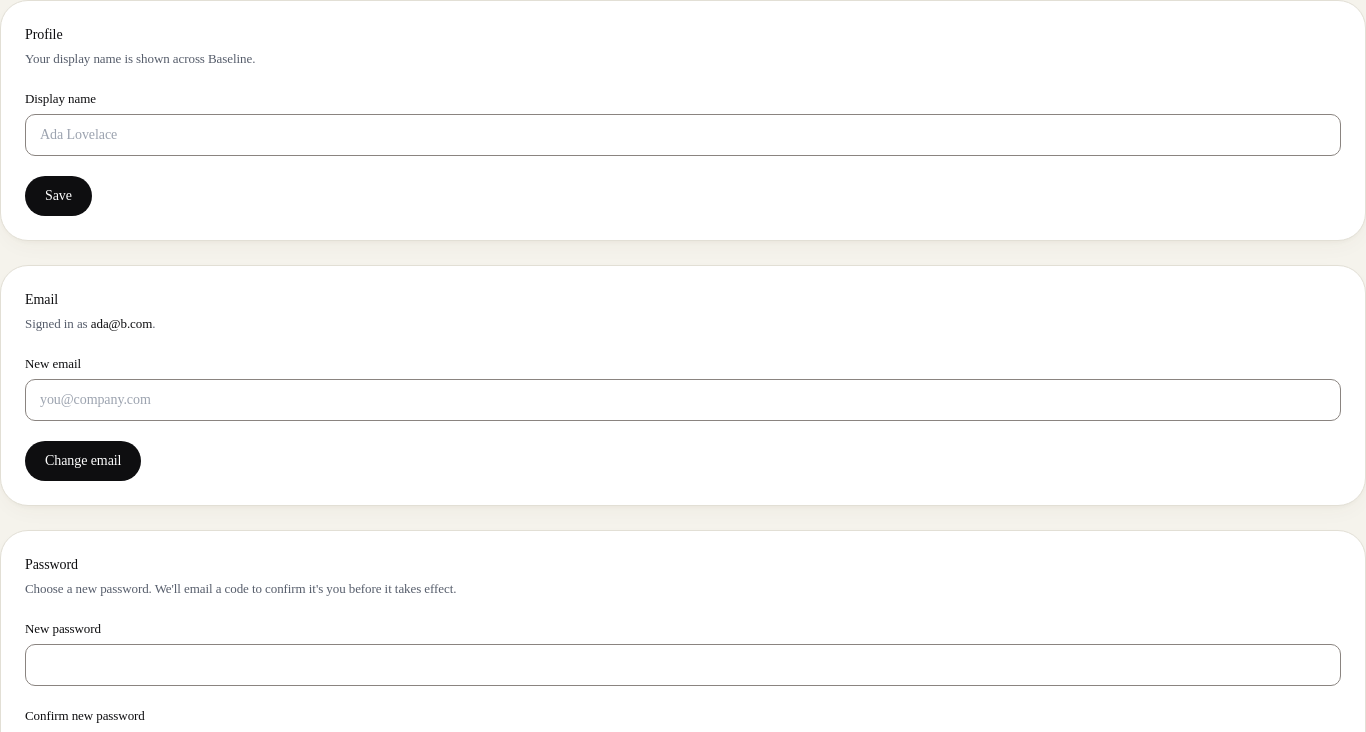
Test: AccountForms › submits the profile form and surfaces the saved confirmation
The image size is (1366, 732).
Type "Grace" into the field labelled "Display name" at [683, 135], box [25,114,1341,156]
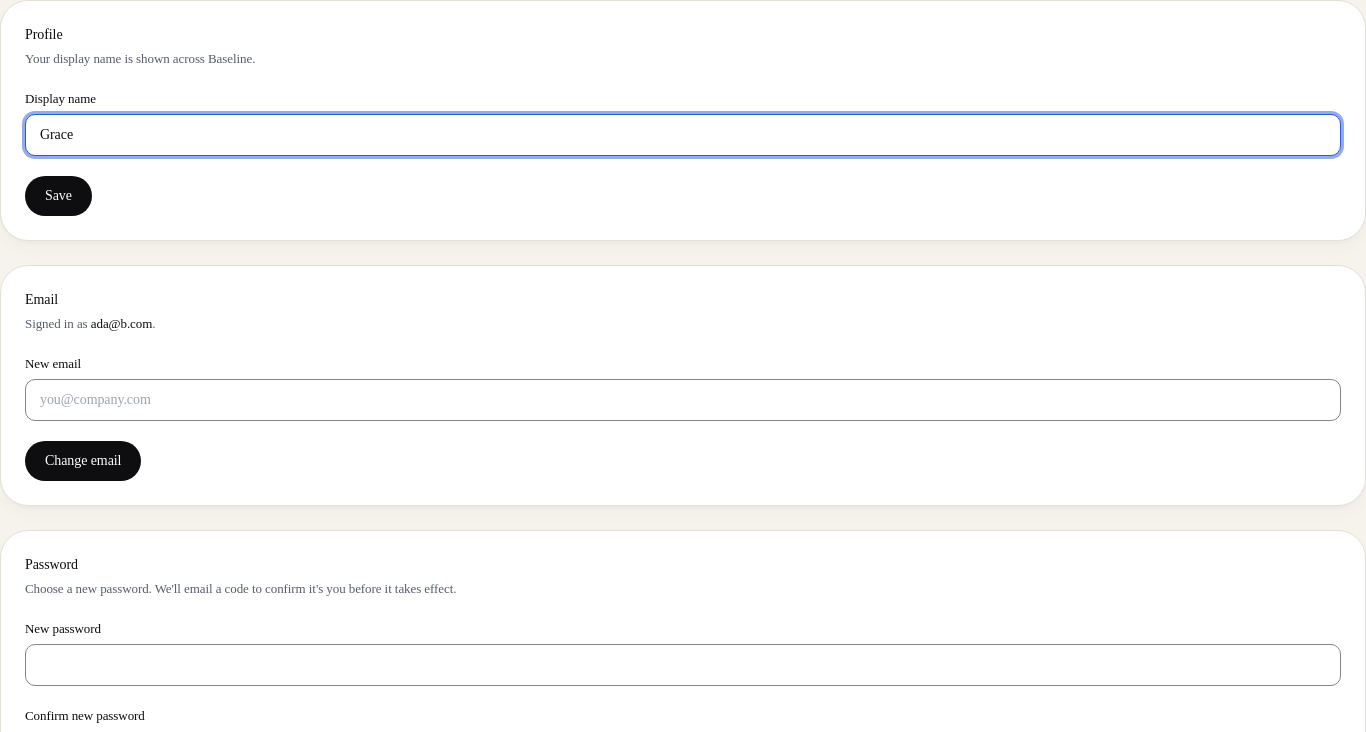
Click the button "Save" at [58, 196], box [25,176,92,216]
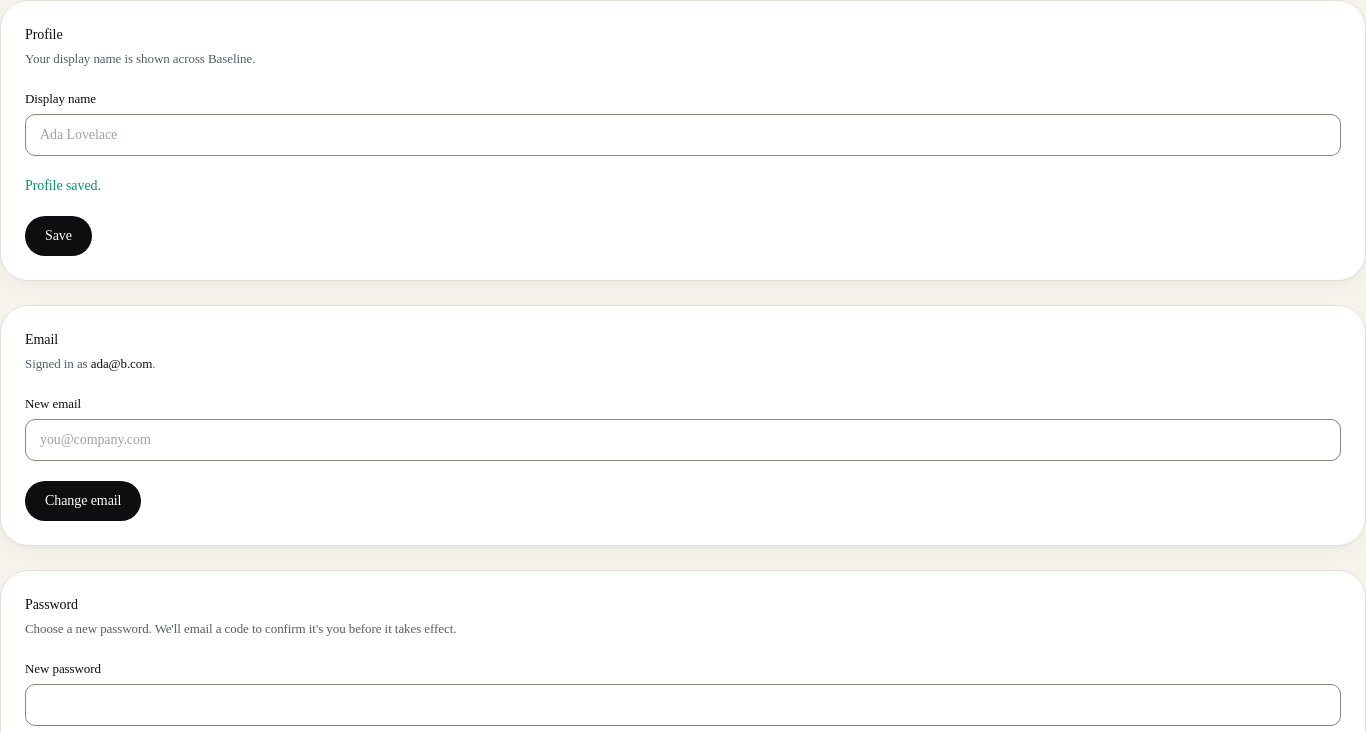
Result: the text "Profile saved." is shown at [25,178,101,193]
